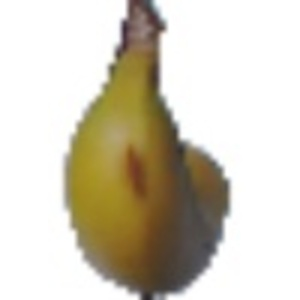banana: (53, 2, 235, 292)
